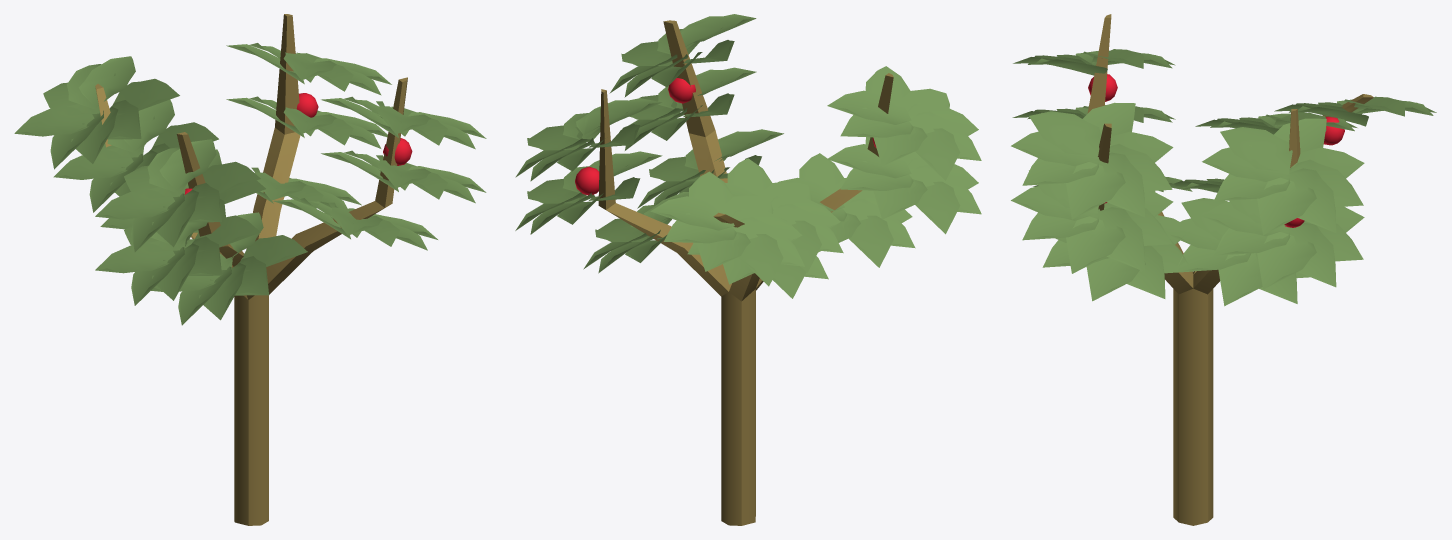
File: Mutrue_Apple_Tree_With_Friut.fbx
3 views of the same model, side by side, from view 1: azimuth 30°, elevation 25°; view 2: azimuth 150°, elevation 25°; view 3: azimuth 270°, elevation 25° (orthographic).
Visible parts, largest first — view 1: Mutrue_Apple_Tree_With_Friut; view 2: Mutrue_Apple_Tree_With_Friut; view 3: Mutrue_Apple_Tree_With_Friut.
Part boxes in pixels (x1,y1,x2,y2): Mutrue_Apple_Tree_With_Friut: (14, 14, 486, 525); Mutrue_Apple_Tree_With_Friut: (515, 14, 981, 525); Mutrue_Apple_Tree_With_Friut: (1011, 14, 1436, 525).
Bounding box in the file's own units: 10.49 × 12.47 × 10.72.
